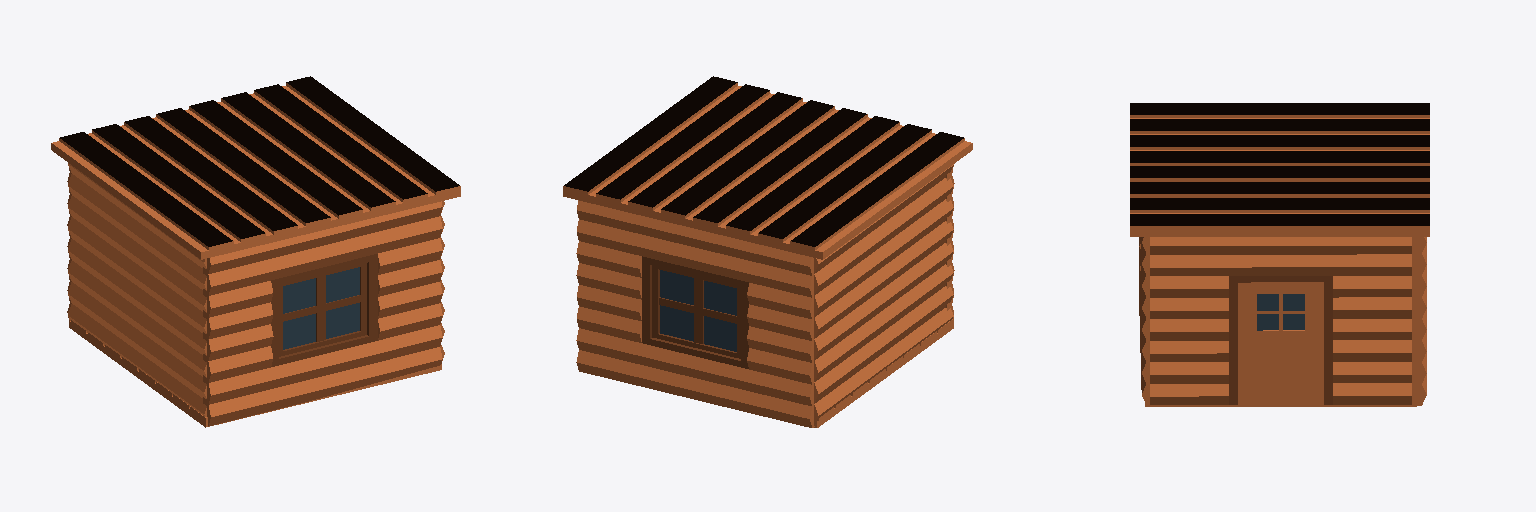
File: Barracks-Lv1-remake(WOOD).obj
The picture shows the model from 3 angles: view 1: azimuth 30°, elevation 25°; view 2: azimuth 150°, elevation 25°; view 3: azimuth 270°, elevation 25°; orthographic projection.
Visible parts, largest first — view 1: cabinRoofFlat, cabinWindow.001, cabinWall, cabinFloor; view 2: cabinRoofFlat, cabinWindow, cabinWall, cabinFloor; view 3: cabinDoor, cabinRoofFlat, cabinWindow, cabinWindow.001, cabinFloor.
Part boxes in pixels (x1,y1,x2,y2): cabinRoofFlat: (51,76,460,259); cabinWindow.001: (203,201,442,426); cabinWall: (68,163,206,416); cabinFloor: (69,320,441,427); cabinRoofFlat: (563,76,972,259); cabinWindow: (576,200,814,427); cabinWall: (814,164,953,425); cabinFloor: (814,319,953,427); cabinDoor: (1150,237,1411,404); cabinRoofFlat: (1130,103,1429,236); cabinWindow: (1412,237,1426,405); cabinWindow.001: (1139,237,1149,400); cabinFloor: (1145,397,1416,406).
Size of the model in its own units: 2.17 by 1.49 by 2.17.